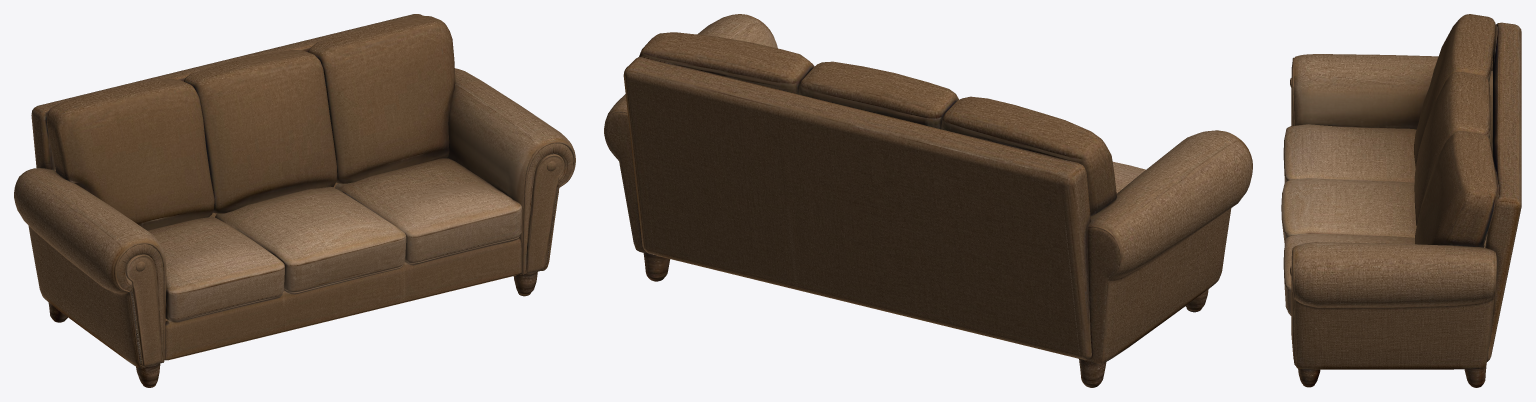
Rendered from couch.glb.
3 views of the same model, side by side, from view 1: azimuth 30°, elevation 25°; view 2: azimuth 150°, elevation 25°; view 3: azimuth 270°, elevation 25° (orthographic). The views are drawn at different scales.
Visible parts, largest first — view 1: couch / mesh; view 2: couch / mesh; view 3: couch / mesh.
Boxes of the visible parts, x1=… form: couch / mesh: x1=14, y1=14, x2=575, y2=387; couch / mesh: x1=604, y1=14, x2=1252, y2=387; couch / mesh: x1=1281, y1=14, x2=1521, y2=387.
Size of the model in its own units: 2.25 by 0.9991 by 1.05.
Materials: 1 (1 with a texture image).
